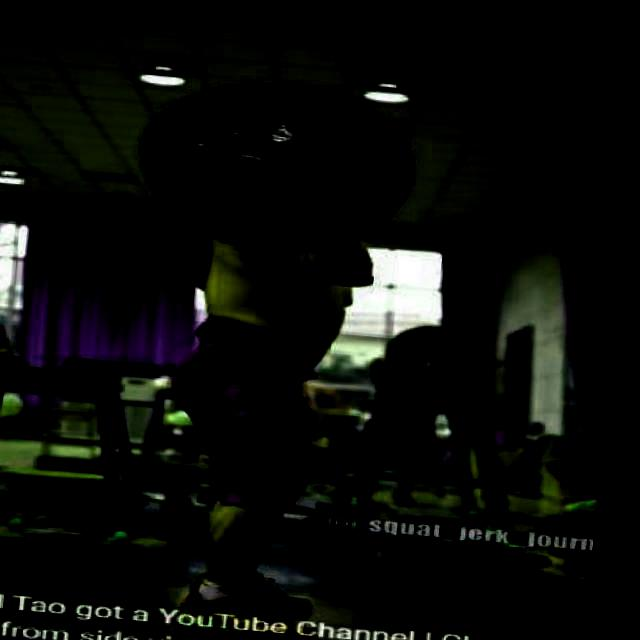barbell: (133, 65, 432, 262)
